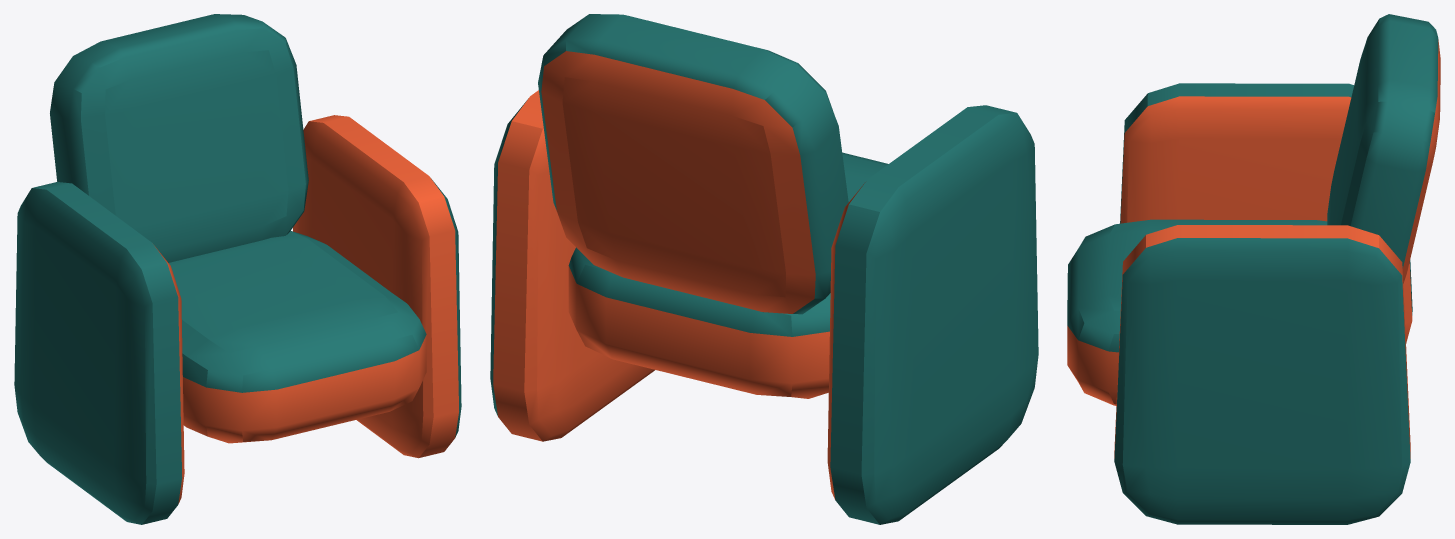
File: SM_Y_03_Chair1.fbx
3 renders of one model, left to right at view 1: azimuth 30°, elevation 25°; view 2: azimuth 150°, elevation 25°; view 3: azimuth 270°, elevation 25°, orthographic. The views are drawn at different scales.
Parts seen in each view (by area): view 1: SM_Y_03_Chair1; view 2: SM_Y_03_Chair1; view 3: SM_Y_03_Chair1.
Part boxes in pixels (x1,y1,x2,y2): SM_Y_03_Chair1: (14, 14, 461, 524); SM_Y_03_Chair1: (490, 14, 1038, 524); SM_Y_03_Chair1: (1067, 14, 1440, 524).
Size of the model in its own units: 107 by 118 by 101.
